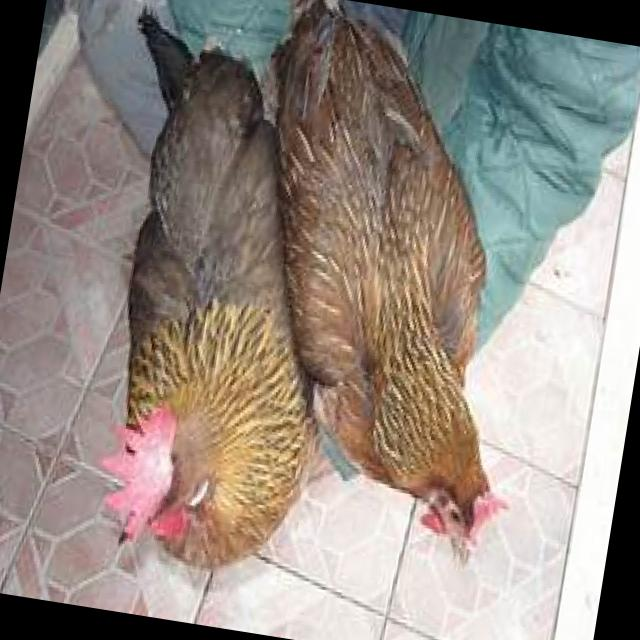animal: (196, 0, 588, 575), (56, 2, 382, 582)
